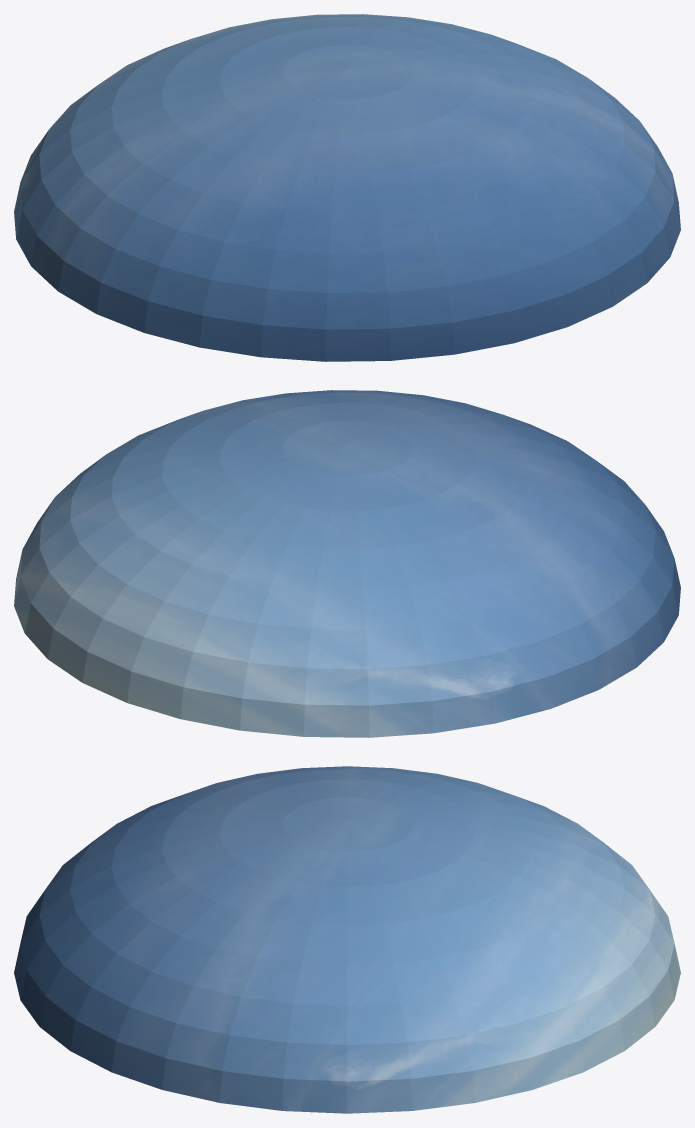
Rendered from sky.obj.
The picture shows the model from 3 angles, top to bottom: view 1: azimuth 30°, elevation 25°; view 2: azimuth 150°, elevation 25°; view 3: azimuth 270°, elevation 25°; orthographic projection.
Visible parts, largest first — view 1: Sphere; view 2: Sphere; view 3: Sphere.
Boxes of the visible parts, x1=… form: Sphere: x1=14, y1=14, x2=680, y2=361; Sphere: x1=14, y1=390, x2=680, y2=737; Sphere: x1=14, y1=766, x2=680, y2=1113.
Size of the model in its own units: 4000 by 1000 by 4000.
1 material, 1 textured.
